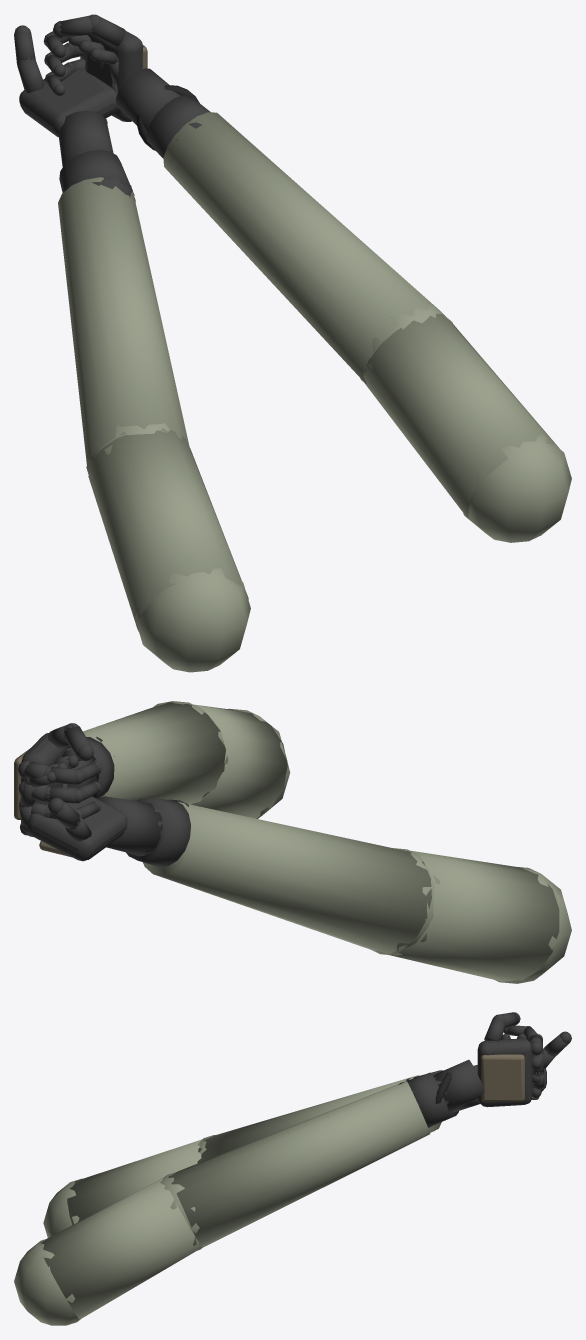
The model's file is arms.glb.
3 renders of one model, top to bottom at view 1: azimuth 30°, elevation 25°; view 2: azimuth 150°, elevation 25°; view 3: azimuth 270°, elevation 25°, orthographic. The views are drawn at different scales.
Parts seen in each view (by area): view 1: hand_r_mesh, hand_l_mesh; view 2: hand_l_mesh, hand_r_mesh; view 3: hand_r_mesh, hand_l_mesh.
Boxes of the visible parts, x1=… form: hand_r_mesh: x1=43, y1=14, x2=571, y2=542; hand_l_mesh: x1=14, y1=25, x2=250, y2=672; hand_l_mesh: x1=19, y1=750, x2=571, y2=983; hand_r_mesh: x1=14, y1=701, x2=290, y2=836; hand_r_mesh: x1=14, y1=1012, x2=543, y2=1325; hand_l_mesh: x1=43, y1=1031, x2=571, y2=1237.
Bounding box in the file's own units: 0.4774 × 0.4694 × 0.7604.
